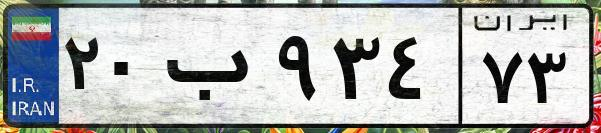0: (110, 28, 158, 98)
2: (57, 26, 110, 100)
3: (330, 28, 385, 110), (525, 38, 570, 115)
4: (385, 28, 445, 110)
7: (475, 38, 525, 113)
9: (270, 28, 330, 110)
ب: (158, 20, 270, 120)
